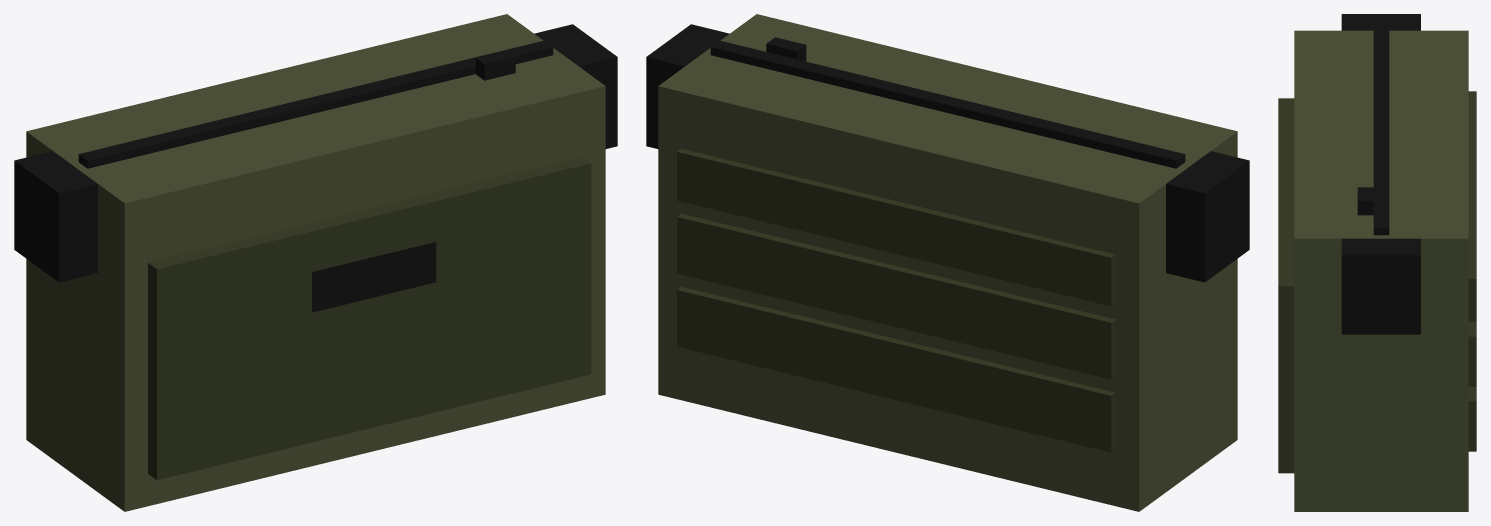
File: deployment_bag.glb
The picture shows the model from 3 angles, left to right: view 1: azimuth 30°, elevation 25°; view 2: azimuth 150°, elevation 25°; view 3: azimuth 270°, elevation 25°; orthographic projection. The views are drawn at different scales.
Parts seen in each view (by area): view 1: deployment_bag:compound; view 2: deployment_bag:compound; view 3: deployment_bag:compound.
Boxes of the visible parts, box(x1,y1,x2,y2) form: deployment_bag:compound: box(14, 14, 617, 511); deployment_bag:compound: box(646, 14, 1249, 511); deployment_bag:compound: box(1278, 14, 1476, 511).
Bounding box in the file's own units: 0.288 × 0.16 × 0.1.
